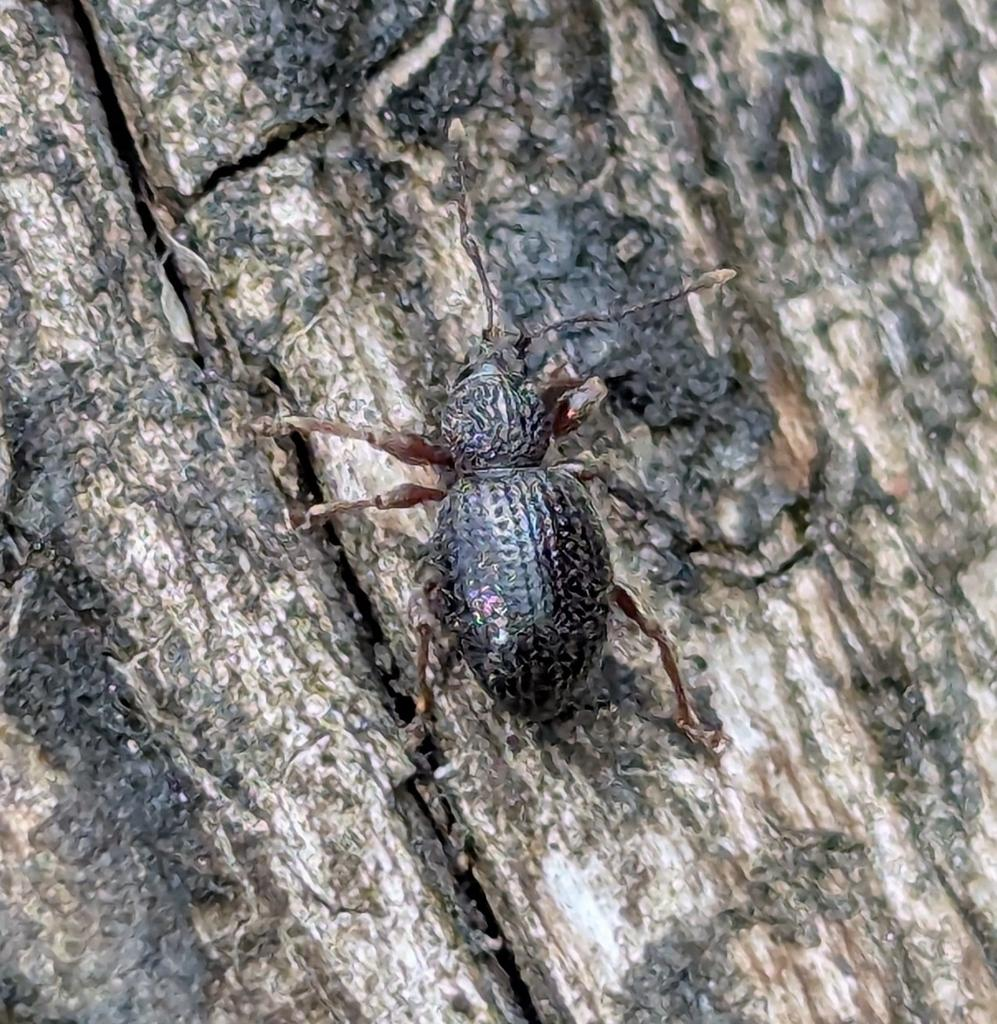weevils: (184, 104, 860, 850)
